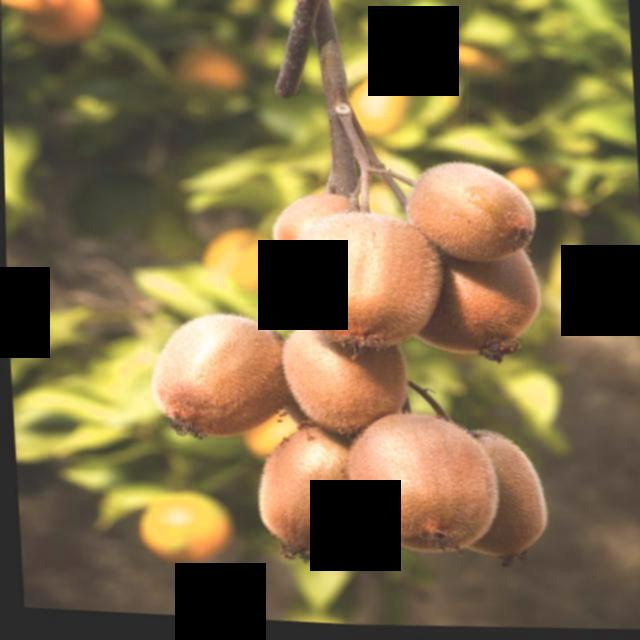kiwi: (267, 211, 442, 351), (349, 412, 503, 558), (405, 234, 554, 363), (145, 316, 284, 443), (244, 427, 372, 552), (407, 151, 539, 265), (281, 341, 422, 446), (470, 418, 548, 564), (276, 193, 365, 272)
